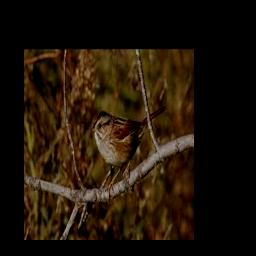Sparrow: (90, 107, 166, 199)
